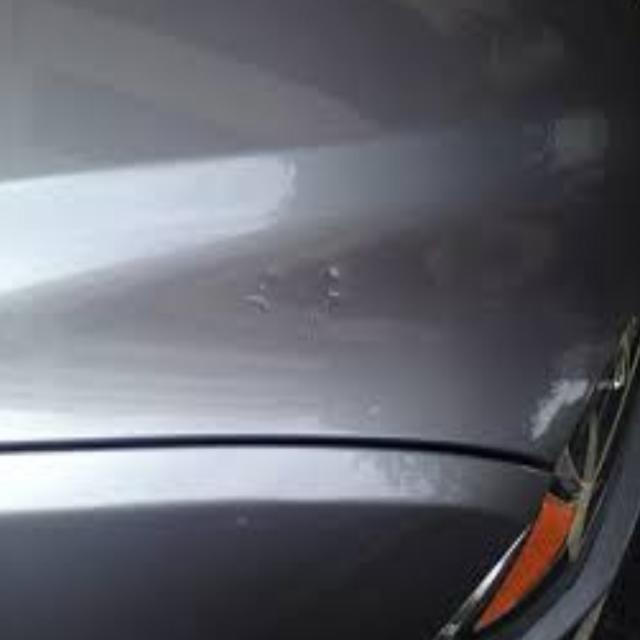dents: (303, 235, 372, 338), (244, 259, 281, 339)
